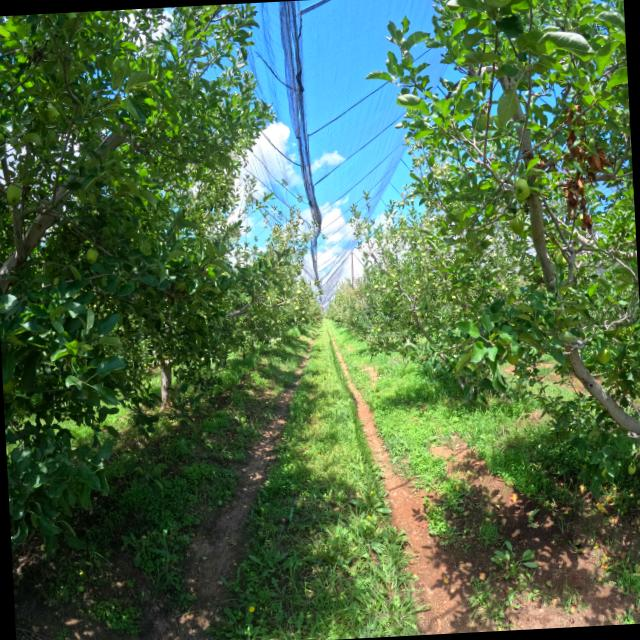-FireBlight-: (559, 104, 618, 235)
